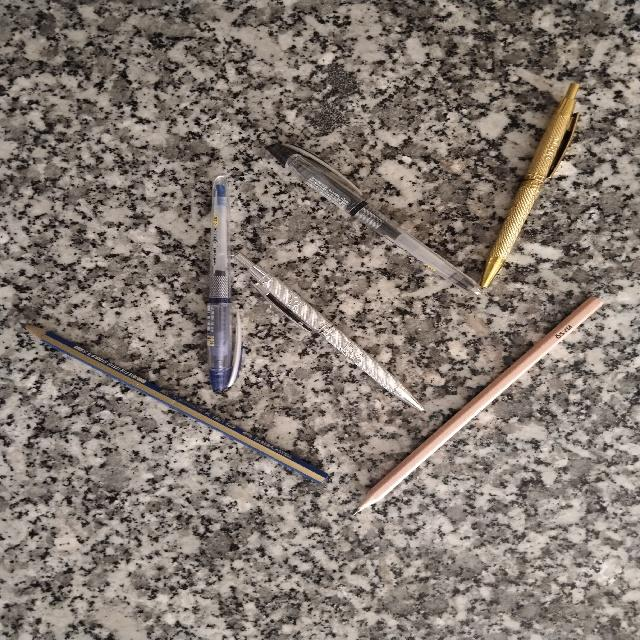pen: (267, 143, 480, 294), (207, 175, 241, 391)
pencil: (357, 297, 601, 511), (26, 326, 327, 482)
signature pen: (235, 253, 423, 410), (481, 83, 578, 286)
